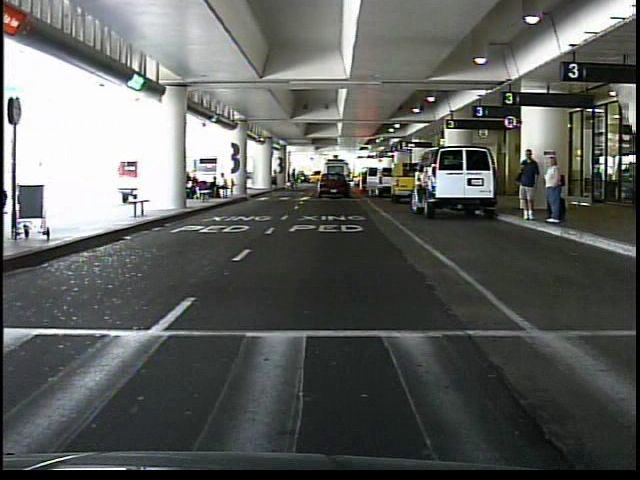person: (513, 146, 541, 225), (542, 152, 565, 227), (270, 167, 281, 192), (342, 171, 351, 192)
